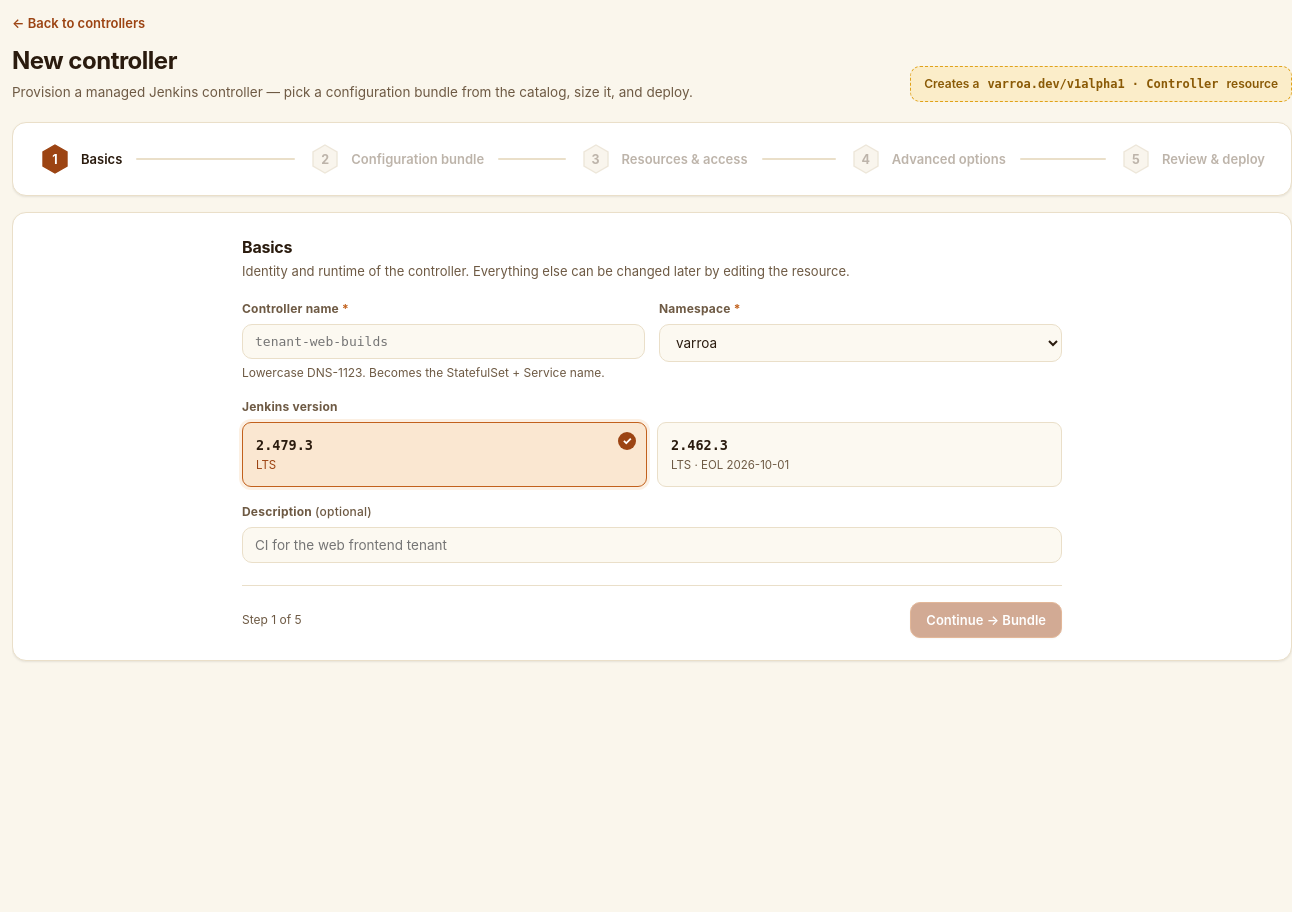
it: ControllerWizard › renders missing/drifted banners from preview and still shows the YAML
Type "my-ctrl" into the field with placeholder "tenant-web-builds" at [444, 341], box [242,324,645,359]
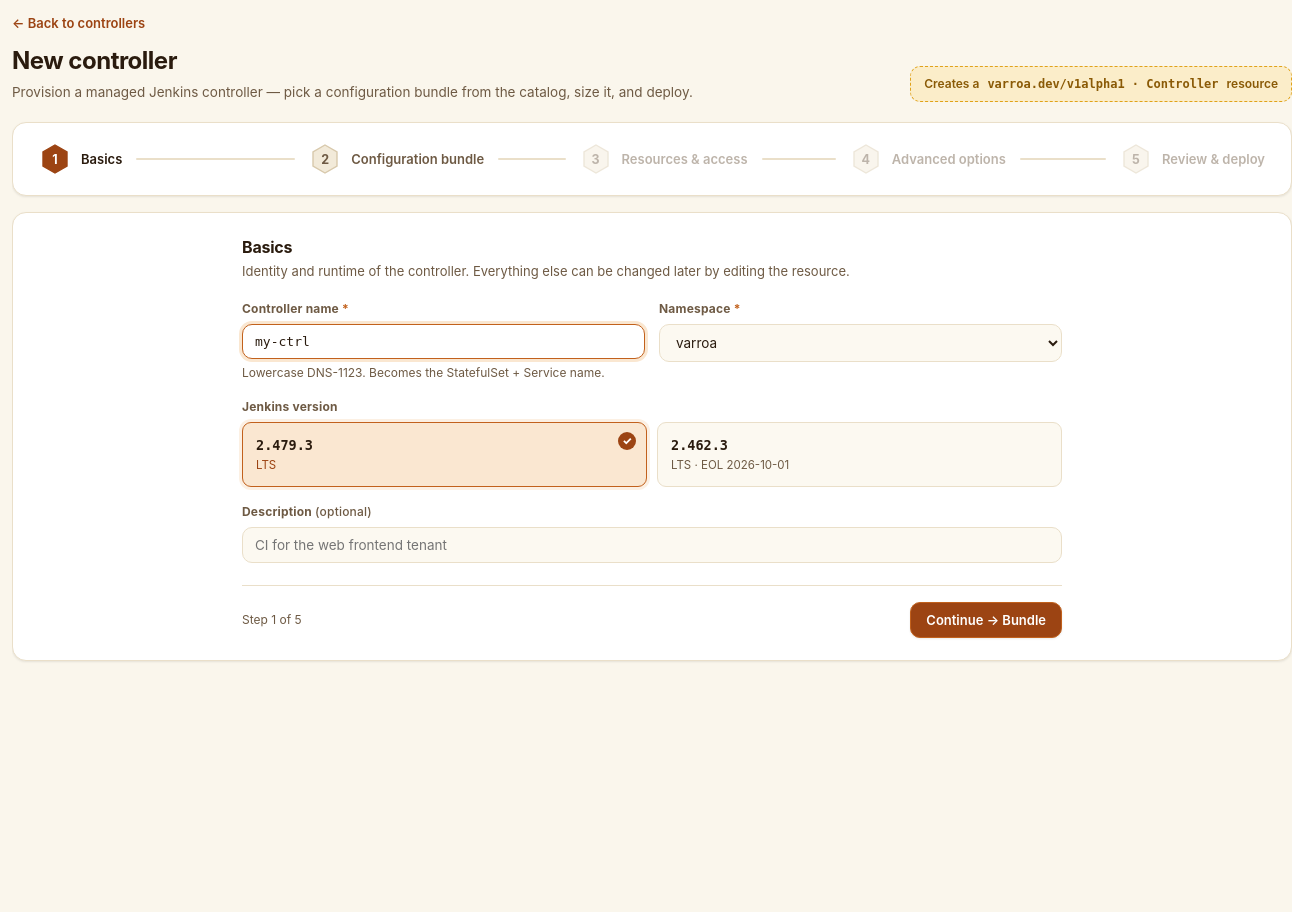
Click the button "Continue → Bundle" at [986, 620], box [910,602,1062,638]
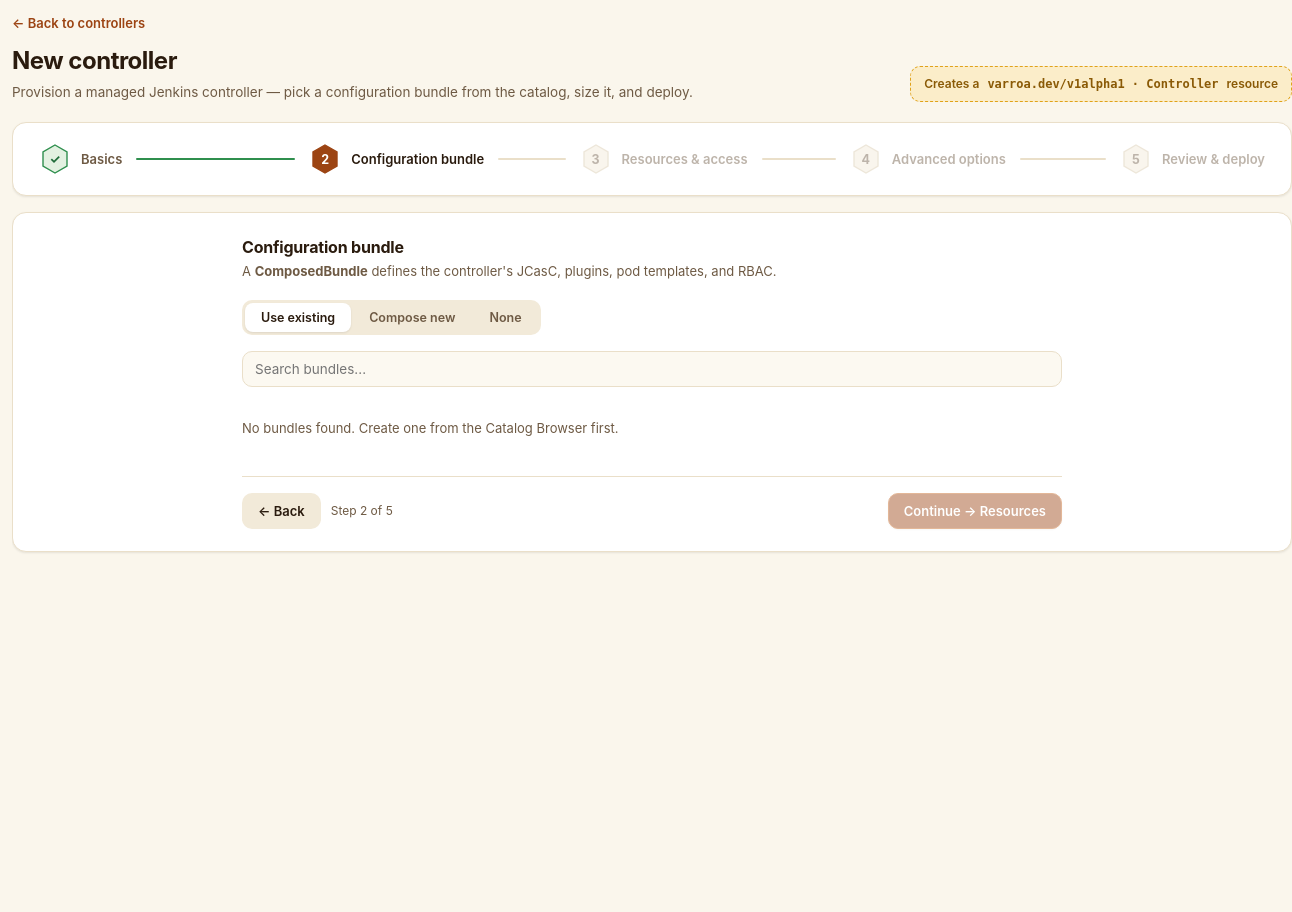
Click the button "Compose new" at [412, 317], box [353,303,471,332]
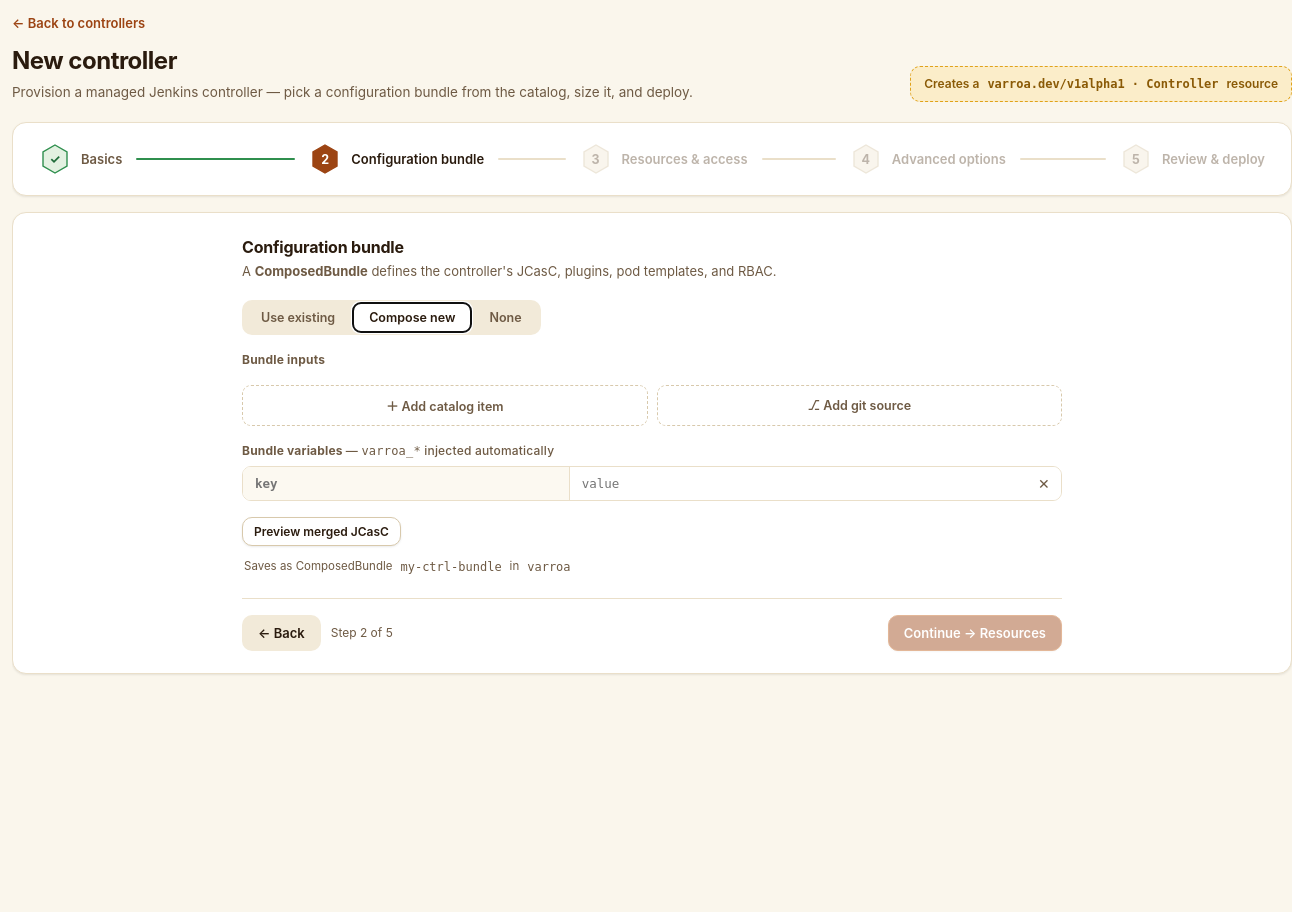
Click the button "Preview merged JCasC" at [322, 531], box [242,517,401,546]
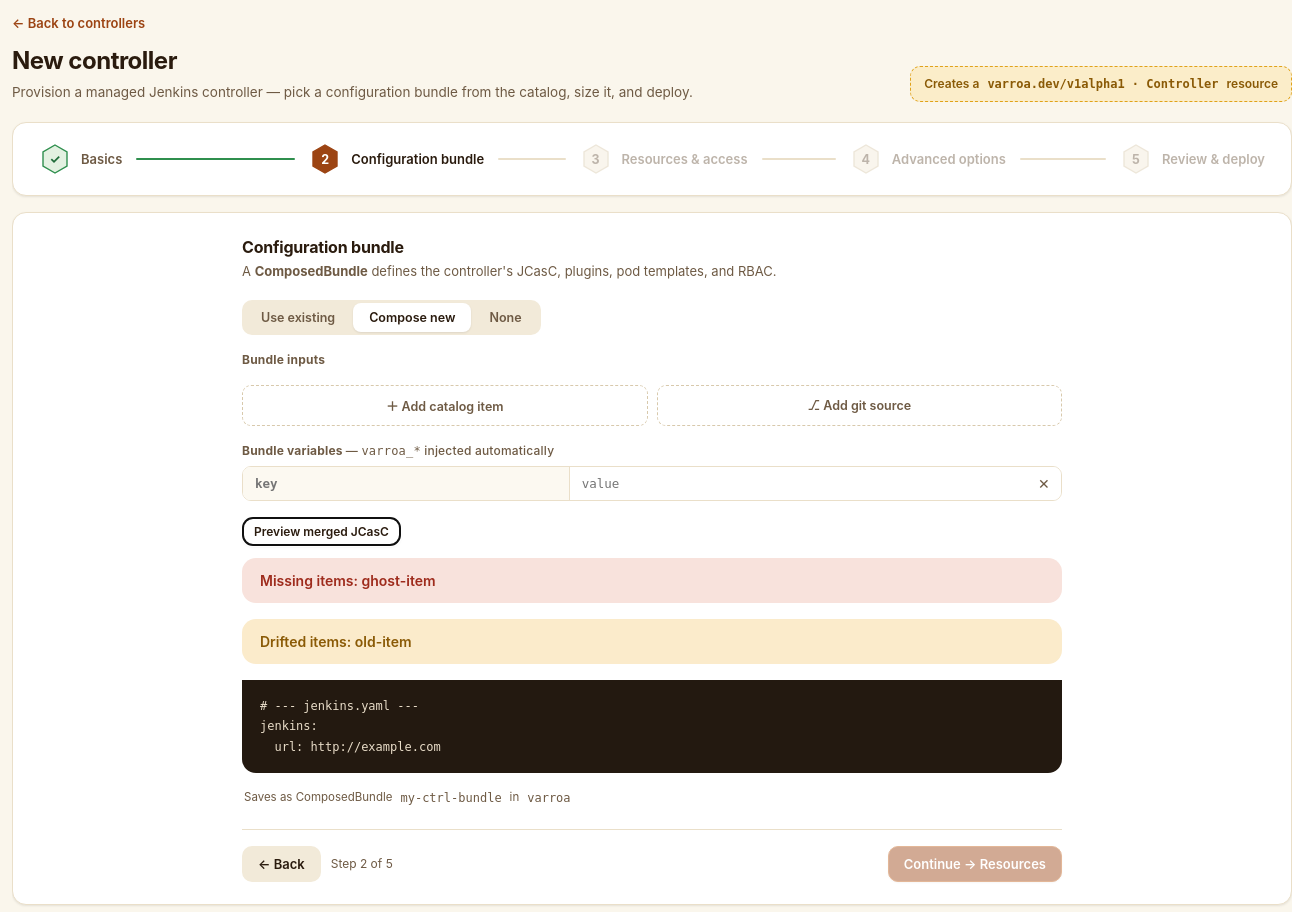
Expected: the text "Missing items: ghost-item" is shown, [242,558,1062,603]
Expected: the text "Drifted items: old-item" is shown, [242,619,1062,664]
Expected: the text "# --- jenkins.yaml --- jenkins: url: http://example.com" is shown, [242,680,1062,773]
